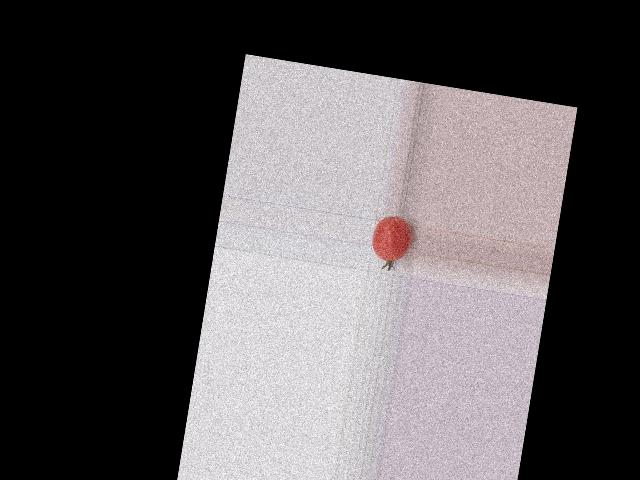tomato: (369, 213, 413, 263)
